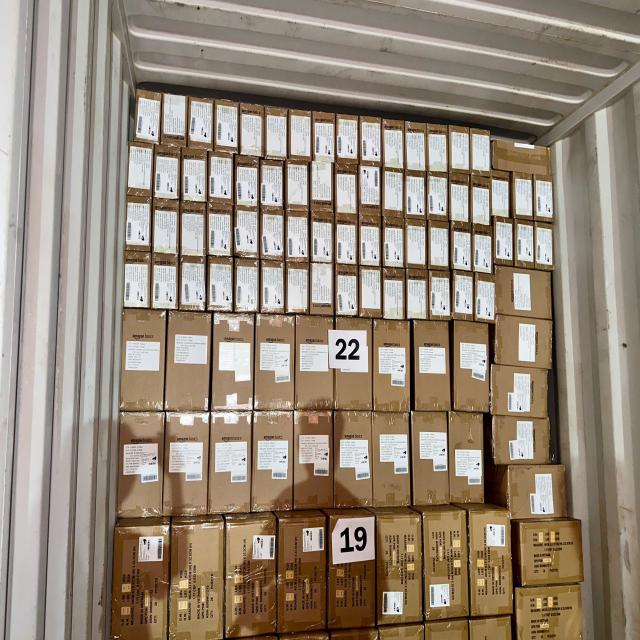Carton: (116, 522, 170, 640), (172, 524, 225, 640), (226, 521, 274, 637), (421, 515, 469, 619), (378, 516, 423, 626), (279, 520, 324, 630), (330, 518, 374, 628), (470, 511, 514, 616), (119, 413, 163, 514), (165, 411, 207, 516), (123, 310, 166, 411), (517, 521, 585, 584), (168, 308, 208, 412), (212, 412, 252, 514), (254, 410, 294, 512), (372, 408, 412, 507), (255, 314, 294, 412), (214, 312, 253, 410), (335, 410, 374, 508), (296, 412, 334, 511), (336, 318, 374, 410), (412, 414, 450, 506), (516, 589, 584, 640), (453, 321, 491, 412), (489, 412, 553, 466), (372, 321, 410, 411), (298, 314, 334, 409), (494, 315, 554, 371), (450, 411, 486, 504), (414, 321, 451, 411), (495, 266, 554, 322), (507, 466, 570, 518), (489, 365, 550, 418), (492, 134, 552, 174), (154, 196, 181, 258), (152, 255, 180, 313), (122, 250, 149, 309), (238, 101, 264, 159), (234, 207, 262, 260), (180, 152, 208, 204), (182, 202, 207, 260), (135, 88, 161, 143), (161, 93, 187, 148), (180, 257, 206, 312), (208, 257, 233, 314), (236, 257, 260, 316), (382, 267, 407, 323), (126, 195, 150, 253), (234, 157, 259, 212), (260, 259, 284, 315), (289, 104, 312, 162), (154, 149, 180, 200), (189, 96, 213, 151), (451, 268, 475, 323), (214, 97, 237, 154), (208, 205, 233, 257), (312, 110, 336, 164), (287, 262, 311, 316), (336, 263, 360, 317), (357, 164, 380, 219), (382, 168, 406, 220), (310, 264, 334, 316), (260, 159, 283, 213), (333, 163, 356, 217), (130, 141, 152, 197), (383, 220, 408, 269), (428, 269, 451, 322), (265, 105, 287, 160), (382, 118, 404, 173), (262, 213, 286, 263), (449, 174, 472, 226), (406, 267, 428, 321), (286, 165, 310, 214), (286, 215, 310, 264), (311, 163, 334, 214), (359, 220, 383, 268), (311, 218, 336, 264), (406, 220, 428, 272), (474, 272, 496, 324), (361, 266, 382, 320), (404, 174, 428, 221), (492, 219, 516, 266), (210, 154, 232, 205), (470, 176, 492, 227), (534, 172, 556, 223), (360, 115, 381, 168), (336, 220, 360, 266), (429, 222, 451, 272), (428, 122, 449, 174), (406, 120, 426, 174), (450, 126, 472, 175), (428, 174, 450, 223), (337, 113, 358, 164), (472, 226, 494, 274), (534, 220, 554, 272), (451, 226, 473, 272), (471, 127, 491, 177), (513, 171, 533, 220), (515, 220, 535, 269), (491, 172, 511, 219), (471, 620, 512, 640)
